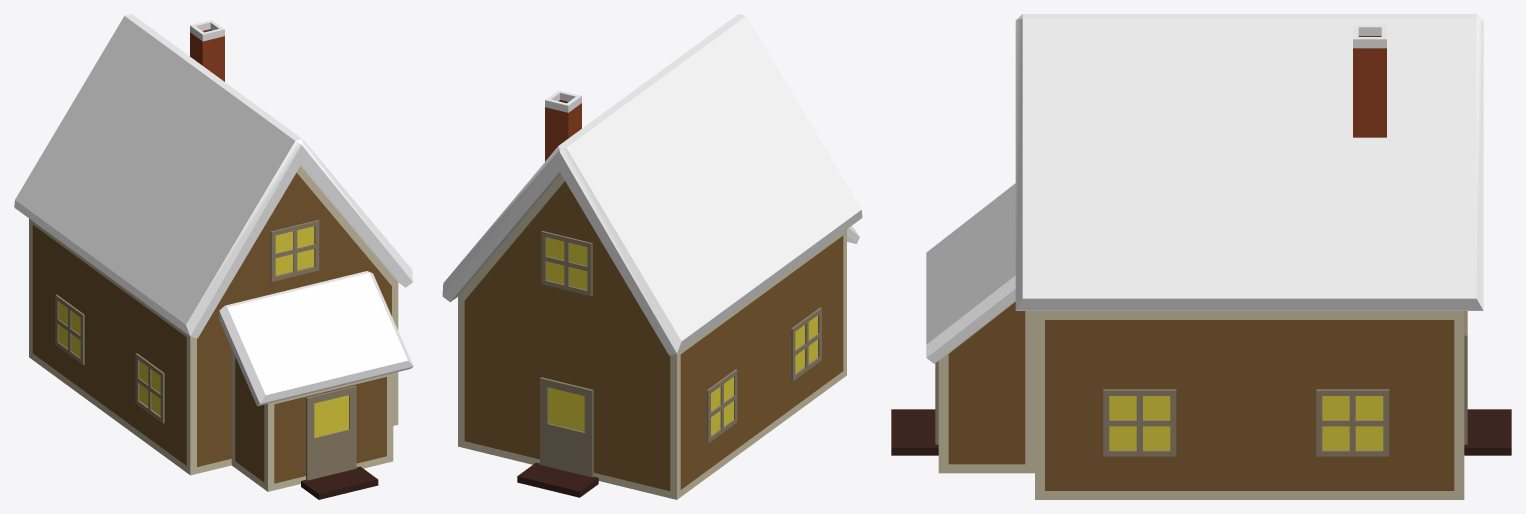
The model's file is House4.fbx.
3 renders of one model, left to right at view 1: azimuth 30°, elevation 25°; view 2: azimuth 150°, elevation 25°; view 3: azimuth 270°, elevation 25°, orthographic. The views are drawn at different scales.
Visible parts, largest first — view 1: House4; view 2: House4; view 3: House4.
Part boxes in pixels (box(x1,y1,x2,y2)): House4: box(14, 14, 413, 499); House4: box(442, 14, 862, 499); House4: box(891, 14, 1511, 499).
Bounding box in the file's own units: 530 × 724 × 947.
